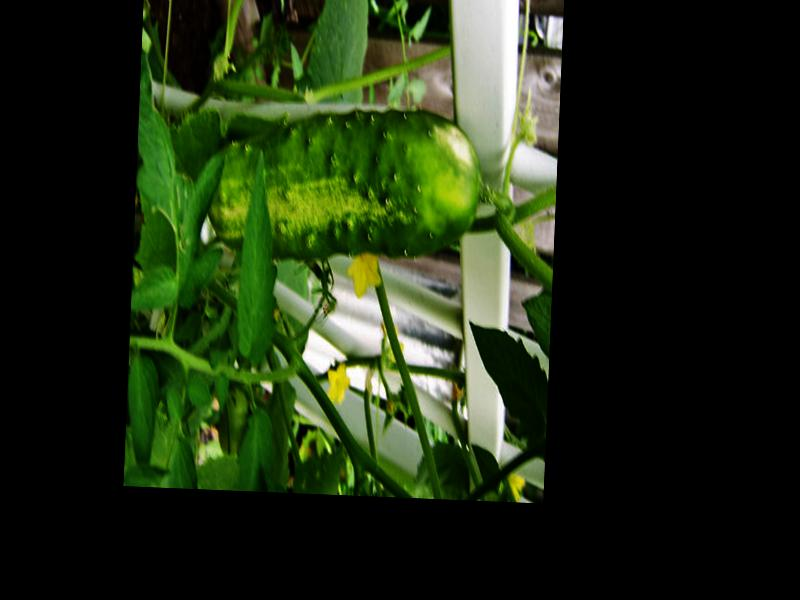Cucumber: (209, 104, 484, 261)
